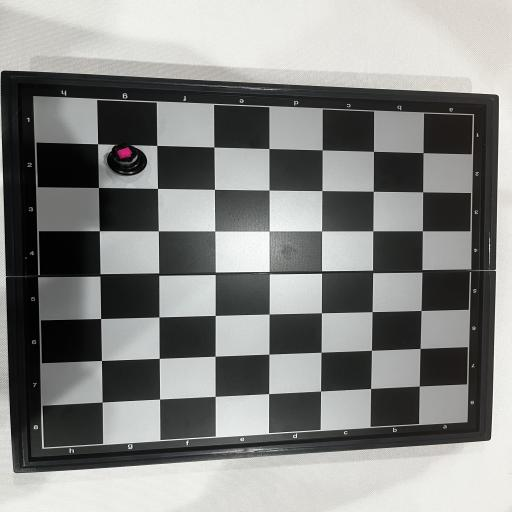Black rook: (106, 144, 147, 176)
